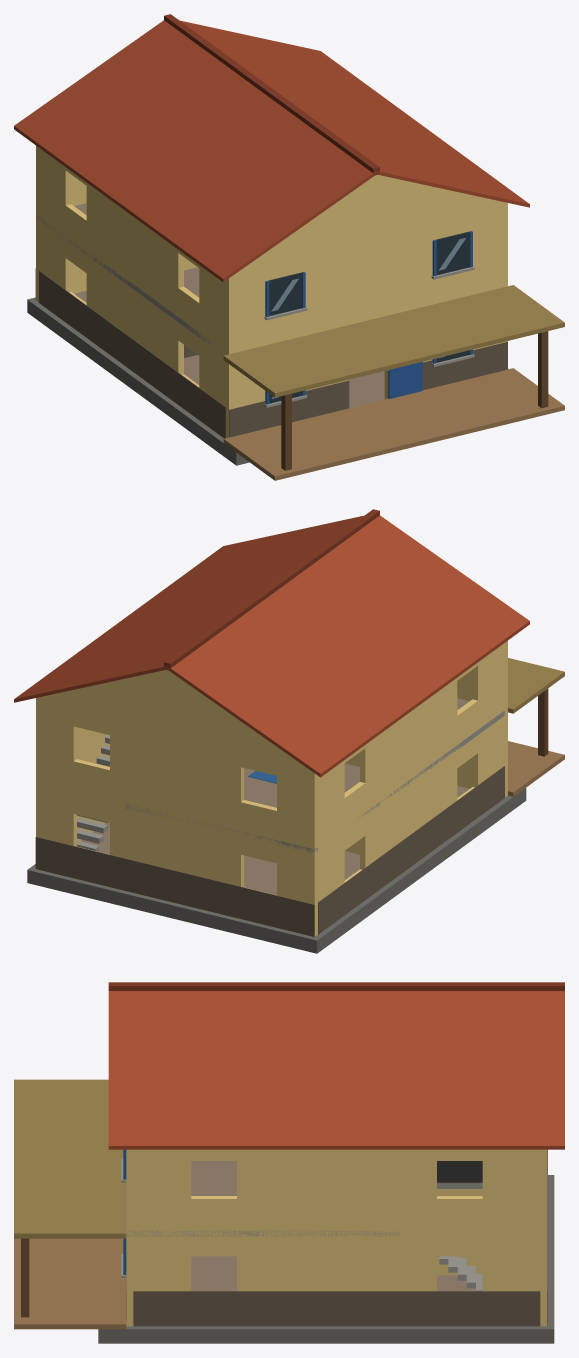
Rendered from restaurante_praia_a.glb.
The picture shows the model from 3 angles, top to bottom: view 1: azimuth 30°, elevation 25°; view 2: azimuth 150°, elevation 25°; view 3: azimuth 270°, elevation 25°; orthographic projection. The views are drawn at different scales.
Parts seen in each view (by area): view 1: restaurante_praia_a; view 2: restaurante_praia_a; view 3: restaurante_praia_a.
Part boxes in pixels (<box>): restaurante_praia_a: <box>14,14,564,480</box>; restaurante_praia_a: <box>14,509,564,953</box>; restaurante_praia_a: <box>14,982,564,1343</box>.
Size of the model in its own units: 11 by 8.87 by 15.7.
